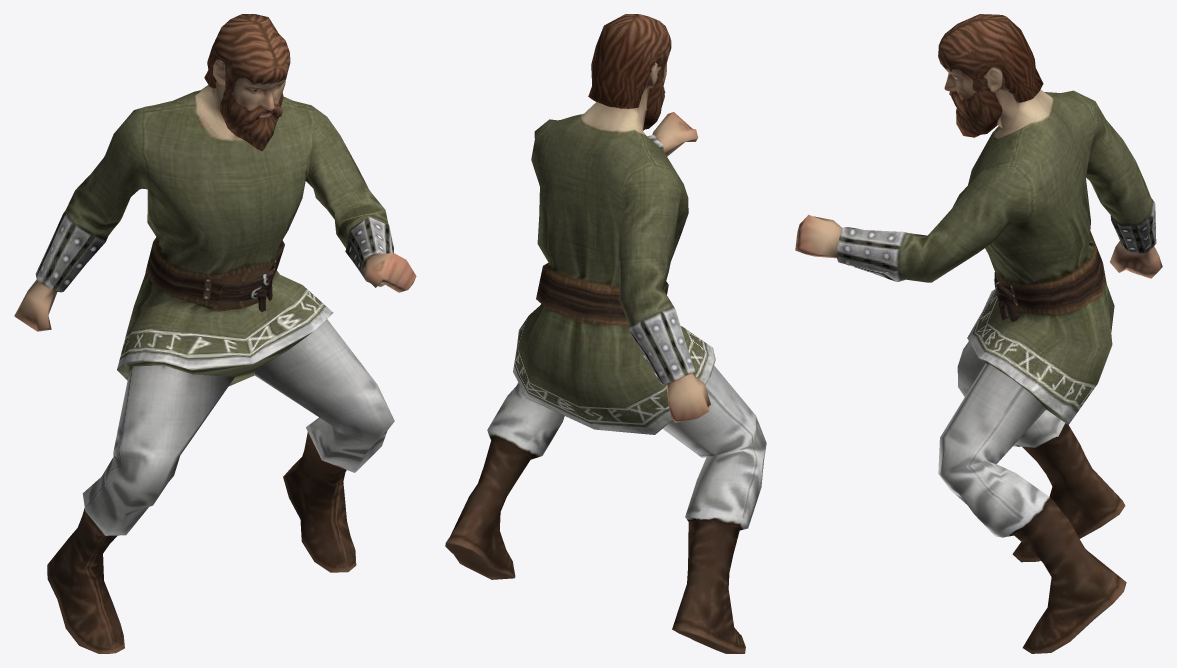
File: rider-slice-base.glb
3 views of the same model, side by side, from view 1: azimuth 30°, elevation 25°; view 2: azimuth 150°, elevation 25°; view 3: azimuth 270°, elevation 25° (orthographic). The views are drawn at different scales.
Size of the model in its own units: 0.9689 by 1.92 by 1.07.
Materials: 1 (1 with a texture image).
